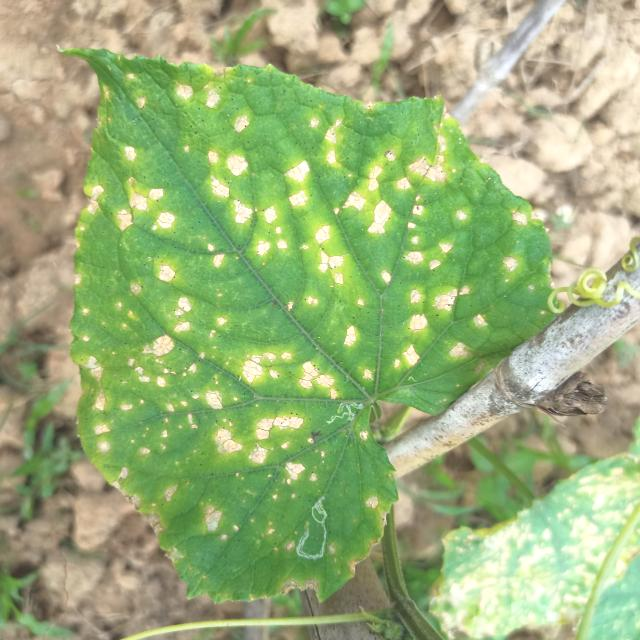disease_cucumber: (78, 77, 516, 577)
